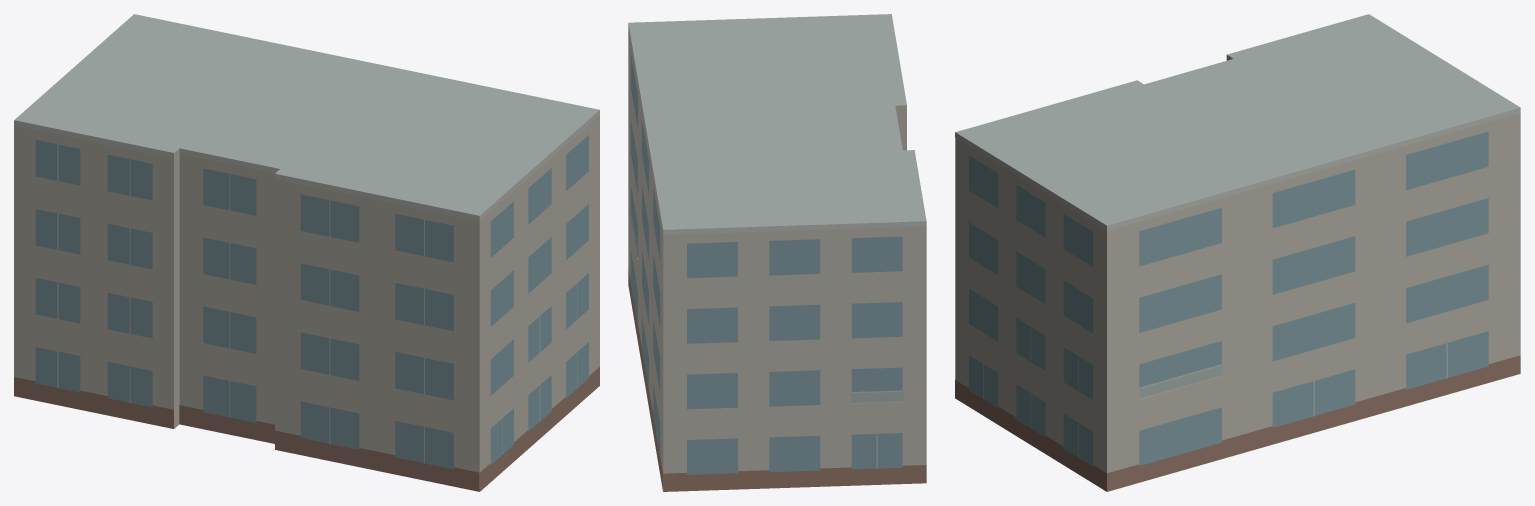
The model's file is survey-upis-33038632.glb.
3 renders of one model, left to right at view 1: azimuth 30°, elevation 25°; view 2: azimuth 150°, elevation 25°; view 3: azimuth 270°, elevation 25°, orthographic. The views are drawn at different scales.
Parts seen in each view (by area): view 1: survey-upis-33038632.tmp; view 2: survey-upis-33038632.tmp; view 3: survey-upis-33038632.tmp.
Boxes of the visible parts, x1,y1,x2,y2 form: survey-upis-33038632.tmp: (14,14,599,491); survey-upis-33038632.tmp: (628,14,926,491); survey-upis-33038632.tmp: (955,14,1520,491).
Size of the model in its own units: 20.92 by 12.26 by 23.61.
